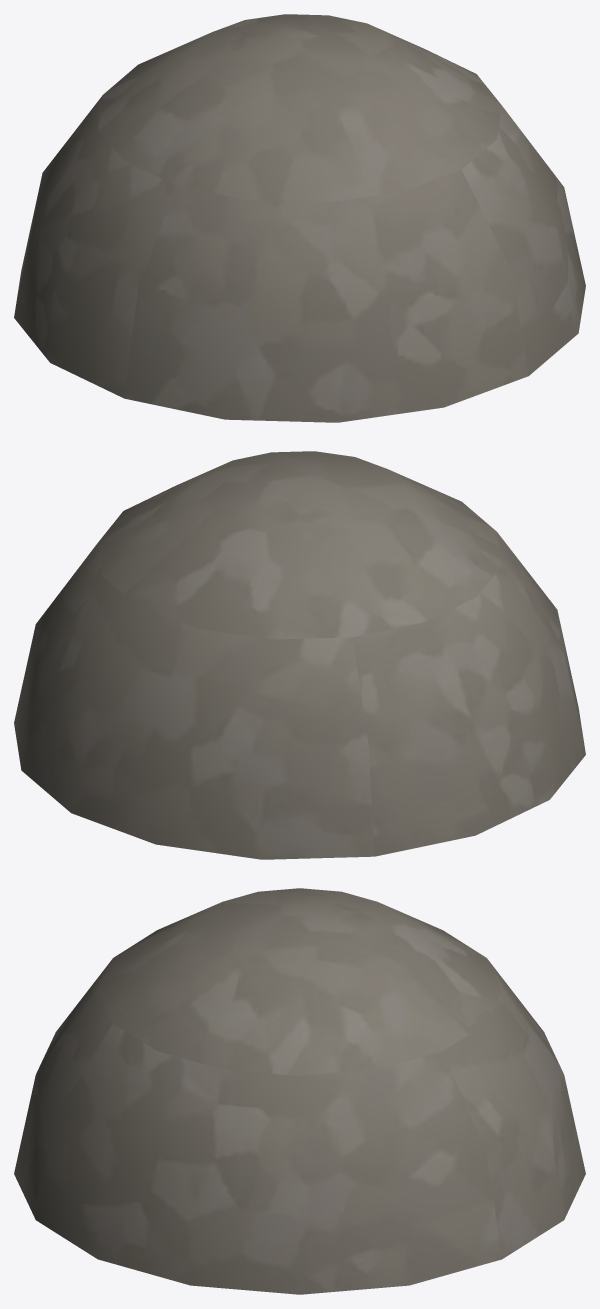
File: Part - Simlpe form 16-Cz9zCEGN.glb
3 renders of one model, top to bottom at view 1: azimuth 30°, elevation 25°; view 2: azimuth 150°, elevation 25°; view 3: azimuth 270°, elevation 25°, orthographic.
Visible parts, largest first — view 1: Simlpe_form_16; view 2: Simlpe_form_16; view 3: Simlpe_form_16.
Boxes of the visible parts, <box> form: Simlpe_form_16: <box>14,14,585,422</box>; Simlpe_form_16: <box>14,451,585,859</box>; Simlpe_form_16: <box>14,888,585,1294</box>.
Size of the model in its own units: 1 by 0.5 by 1.
Materials: 1 (1 with a texture image).
